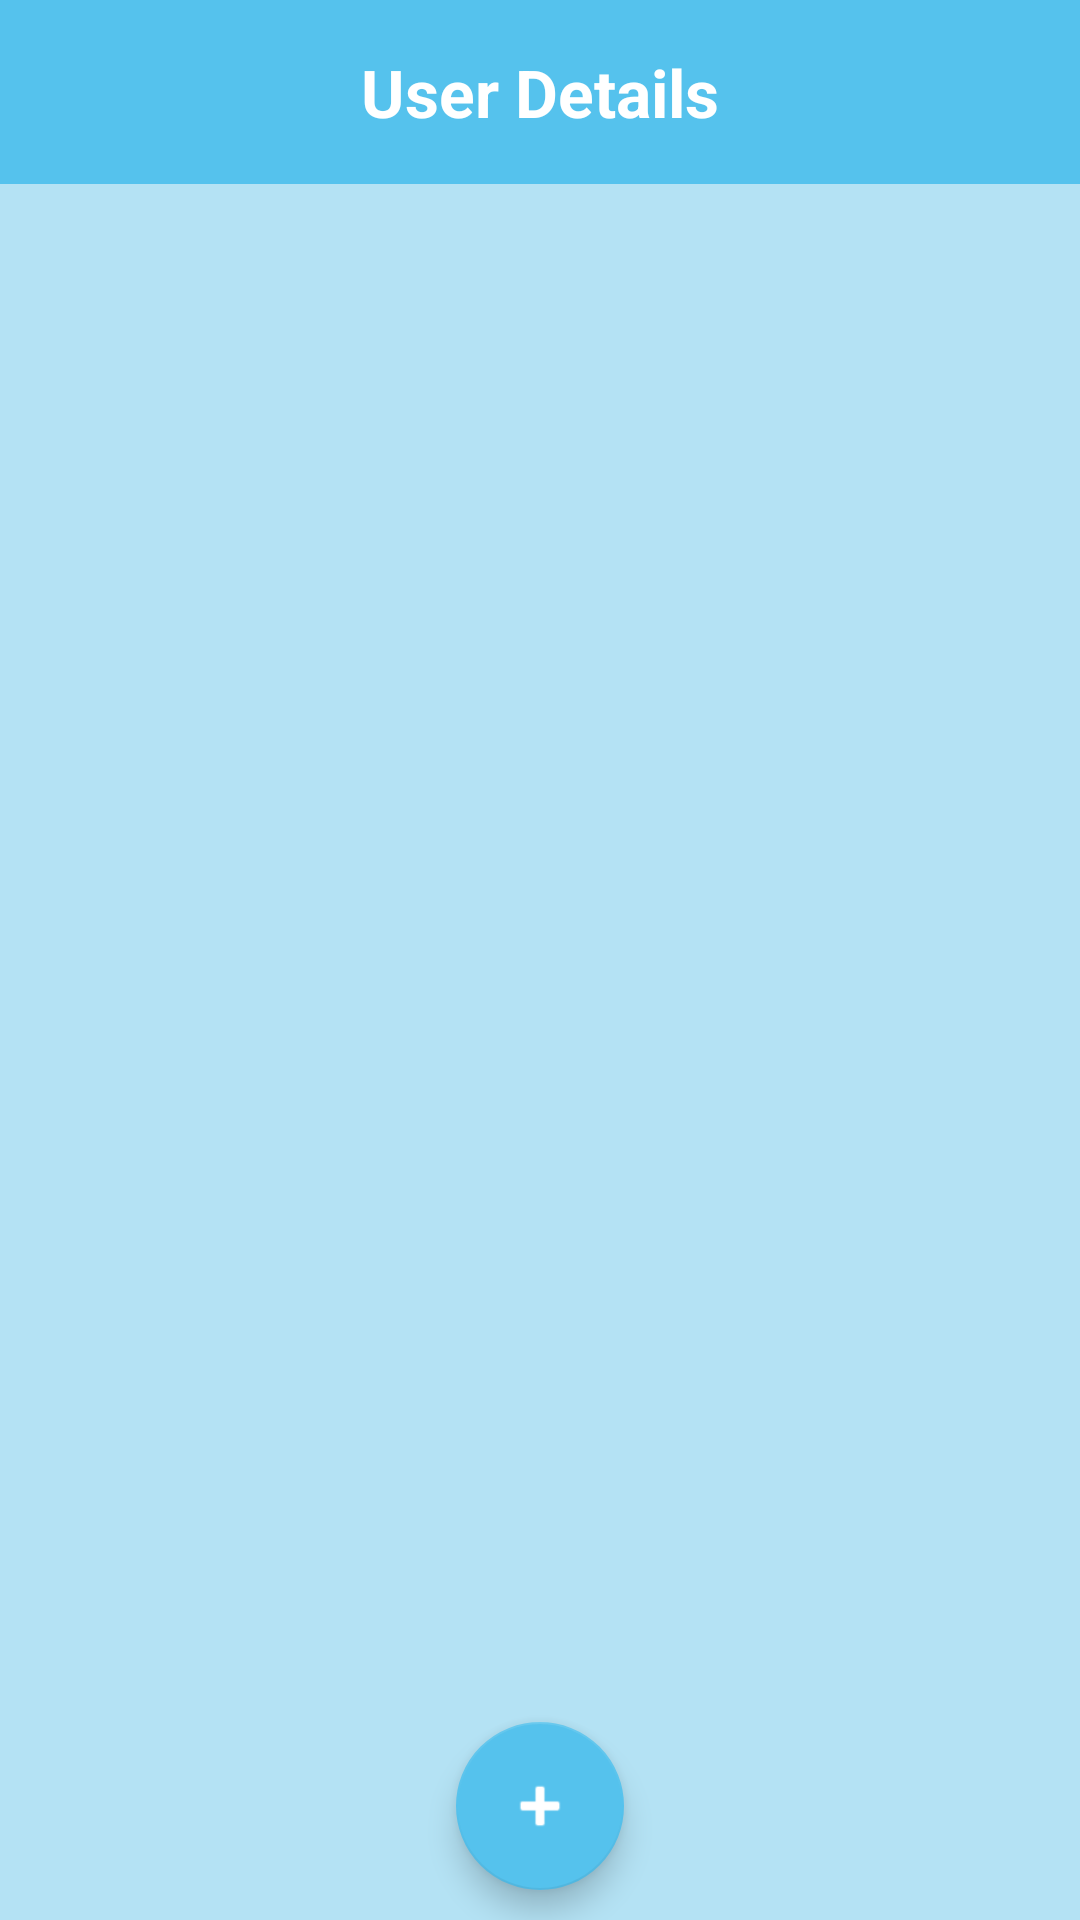

Named icons in this screenshot (1080*1920) and their bounding boxes, (x1, y1, x2, y2):
add: (456, 1722, 624, 1890)
